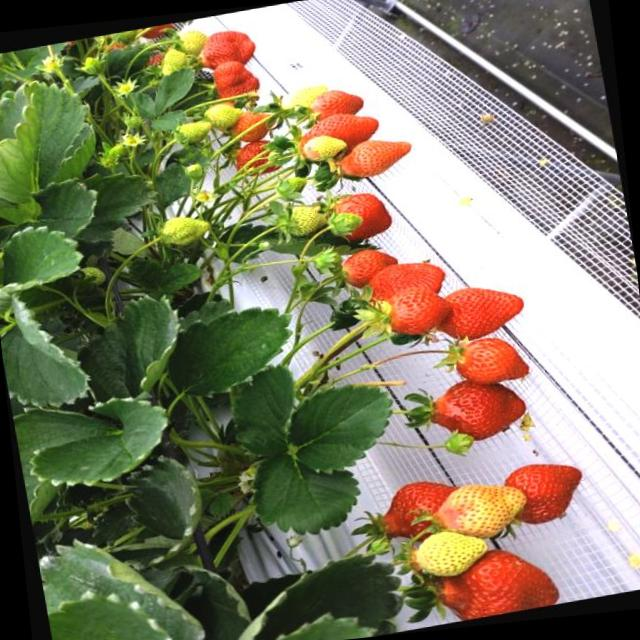ripe: (418, 540, 568, 626), (359, 472, 468, 554), (418, 375, 533, 447), (487, 454, 589, 530), (427, 276, 527, 347), (356, 254, 446, 312), (450, 329, 532, 388), (329, 130, 416, 182), (381, 283, 455, 337), (292, 108, 374, 156), (326, 191, 396, 244), (189, 26, 257, 74), (204, 61, 265, 107), (336, 246, 400, 286), (303, 82, 366, 116), (230, 140, 278, 178), (228, 110, 274, 142)
